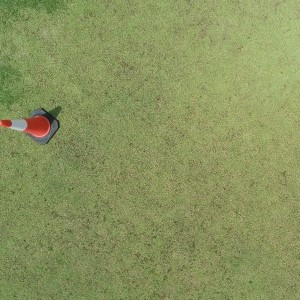traffic cone: (1, 108, 60, 146)
